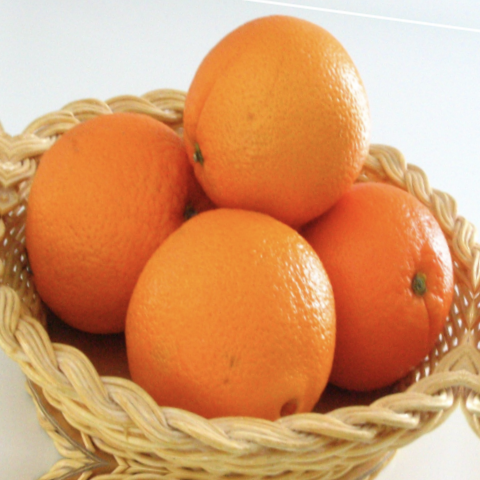orange: (104, 172, 370, 468), (0, 92, 221, 341), (160, 0, 386, 220), (276, 162, 480, 373)
